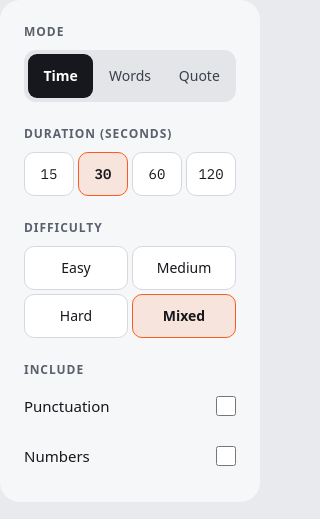
Test: SettingsPanel quote mode › shows the Short/Medium/Long group in place of duration and word count
This screenshot has width=320, height=519.
Click the button "Quote": {"x": 199, "y": 76} [167, 54, 232, 98]
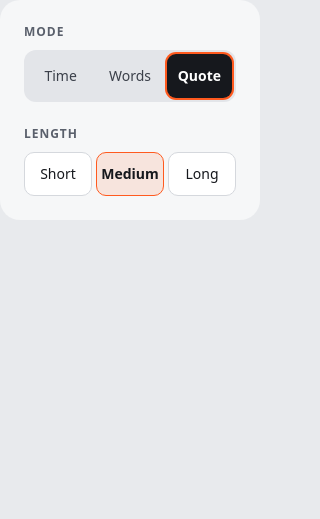
Check: the buttons read "Short", "Medium", "Long", in this order, box [24, 152, 92, 196]; [96, 152, 164, 196]; [168, 152, 236, 196]
